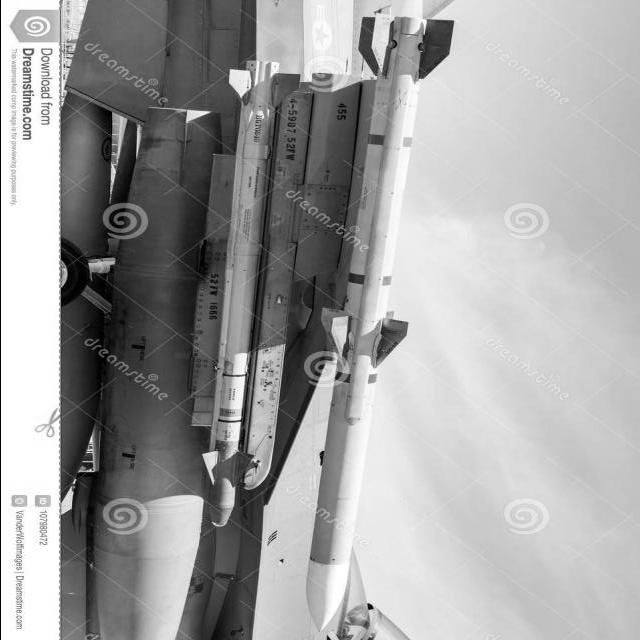missile: (275, 5, 455, 640), (203, 50, 292, 537)
